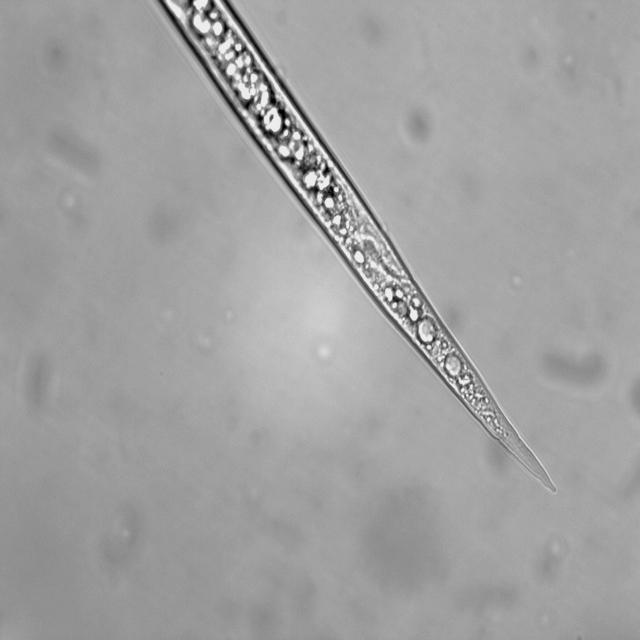Meloidogyne: (280, 132, 568, 503)
